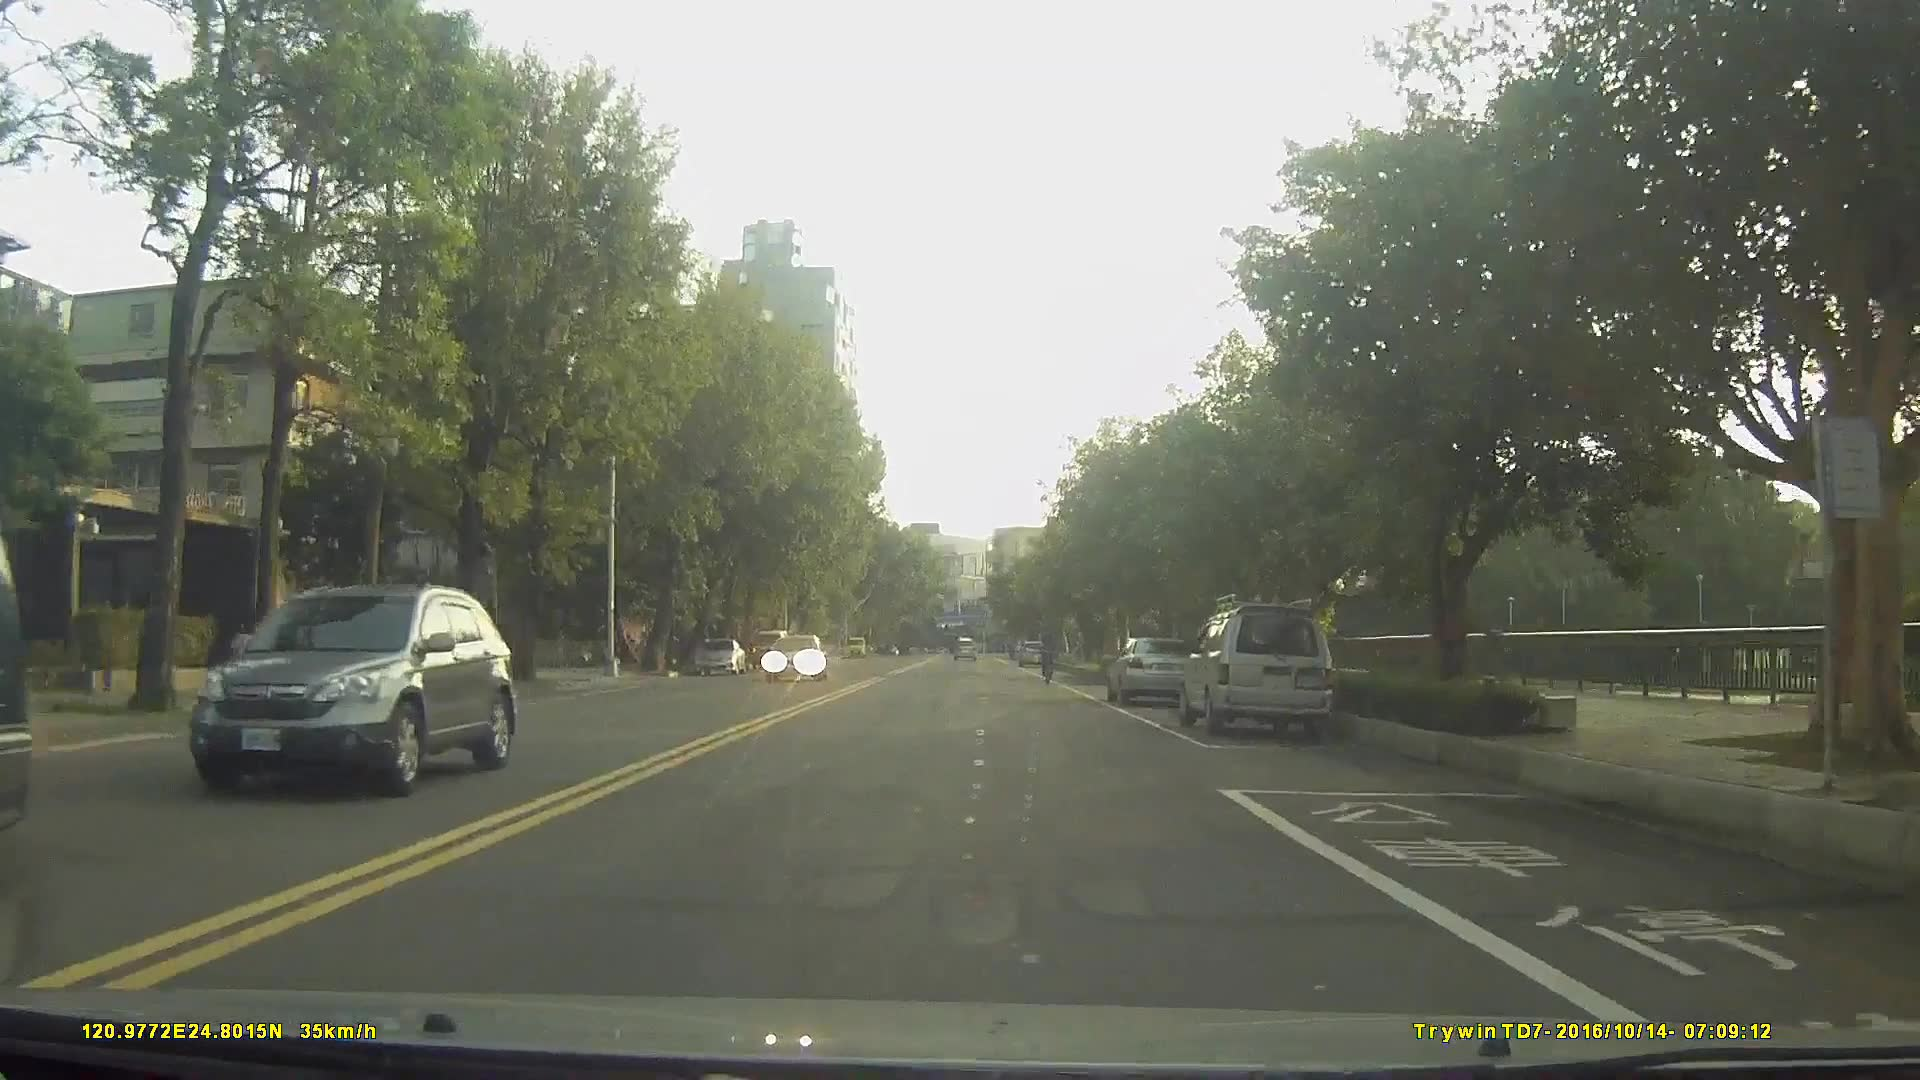rider: (1038, 628, 1058, 689)
vehicle: (186, 581, 515, 802), (1174, 606, 1332, 737), (1105, 633, 1199, 706), (760, 631, 826, 684), (691, 634, 747, 675), (748, 630, 790, 670), (1017, 638, 1046, 668), (949, 634, 977, 660)
